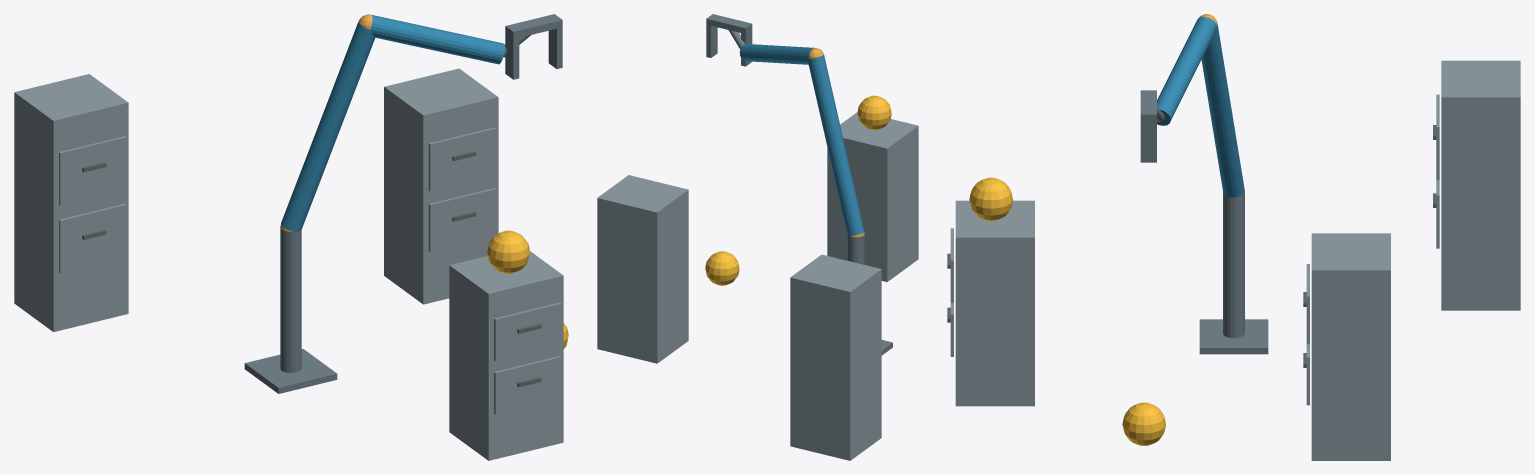
3 views of the same model, side by side, from view 1: azimuth 30°, elevation 25°; view 2: azimuth 150°, elevation 25°; view 3: azimuth 270°, elevation 25° (orthographic). The views are drawn at different scales.
Parts seen in each view (by area): view 1: cabinet_3 body, cabinet_2 body, cabinet_1 body, moving link 1, cabinet_3 drawer front, cabinet_3 drawer front.001, cabinet_2 drawer front.001, cabinet_2 drawer front, fixed post, moving link 2, cabinet_1 drawer front.001, cabinet_1 drawer front (+5 smaller); view 2: cabinet_3 body, cabinet_2 body, cabinet_1 body, moving link 1, moving link 2, ball ball_2, released ball_1, gripper bridge, fixed post, gripper finger 1; view 3: cabinet_3 body, cabinet_2 body, cabinet_1 body, moving link 1, fixed post, moving link 2, pedestal, released ball_1, ball ball_2, gripper finger 1.
Part boxes in pixels (x1,y1,x2,y2): cabinet_3 body: (14,74,128,331); cabinet_2 body: (384,68,498,304); cabinet_1 body: (449,251,563,460); moving link 1: (281,21,375,232); cabinet_3 drawer front: (59,203,126,273); cabinet_3 drawer front.001: (59,136,126,205); cabinet_2 drawer front.001: (428,127,496,191); cabinet_2 drawer front: (428,188,496,252); fixed post: (280,228,301,372); moving link 2: (370,15,504,64); cabinet_1 drawer front.001: (494,302,561,361); cabinet_1 drawer front: (494,356,561,414); cabinet_3 body: (790,254,881,460); cabinet_2 body: (597,175,688,363); cabinet_1 body: (827,112,918,281); moving link 1: (808,54,864,235); moving link 2: (739,44,814,64); ball ball_2: (705,251,739,285); released ball_1: (857,95,891,130); gripper bridge: (706,14,752,34); fixed post: (847,235,864,264); gripper finger 1: (706,24,717,57); cabinet_3 body: (1441,60,1520,310); cabinet_2 body: (1311,233,1390,460); cabinet_1 body: (955,200,1034,406); moving link 1: (1201,23,1244,197); fixed post: (1223,191,1244,338); moving link 2: (1157,16,1216,125); pedestal: (1199,319,1268,354); released ball_1: (969,177,1012,221); ball ball_2: (1122,402,1165,445); gripper finger 1: (1140,122,1156,162).
Bounding box in the file's own units: 1.62 × 1.44 × 2.1.
